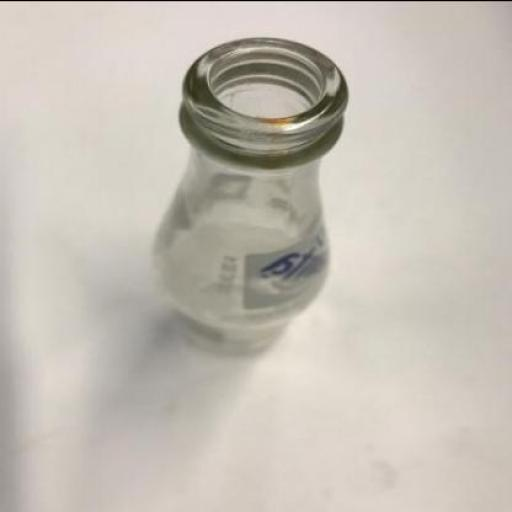glass: (154, 36, 351, 356)
